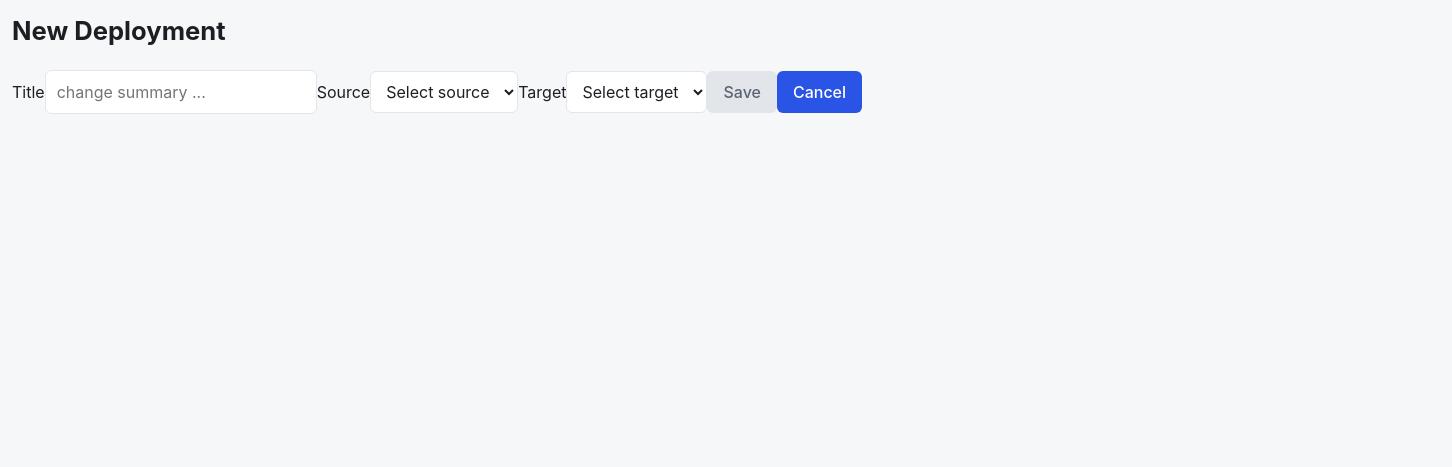
Scenario: NewDeployment page › creates a draft deployment with the optional title on Save and moves to the component picker
Type "Sprint 12 release" into the field labelled "Title" at (181, 92), box [45, 70, 317, 114]
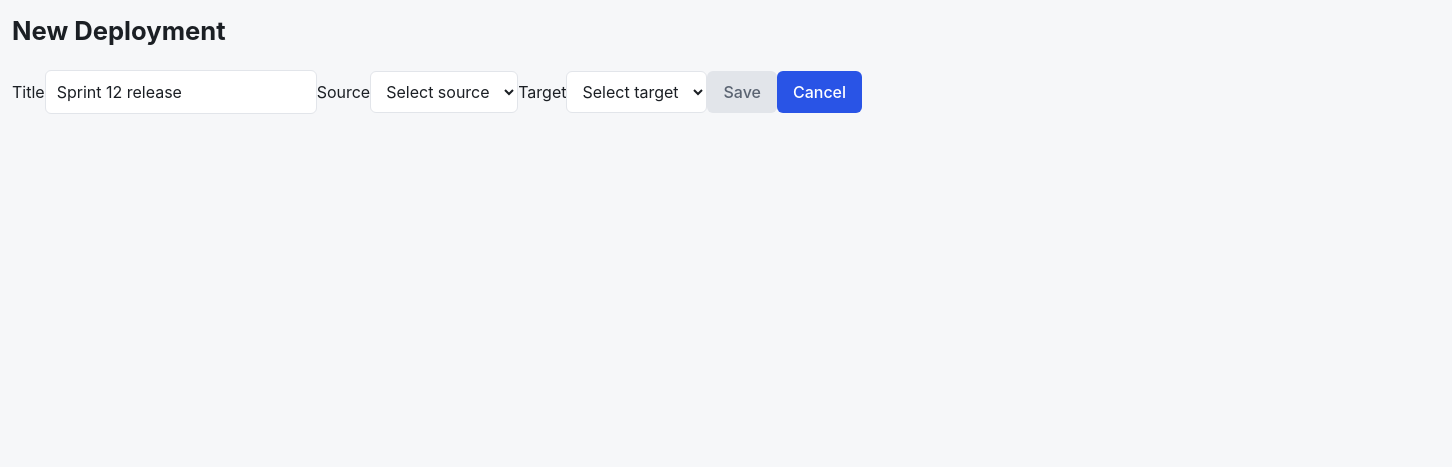
Select "Dev" in the dropdown labelled "Source" at (444, 92), box [370, 71, 518, 113]
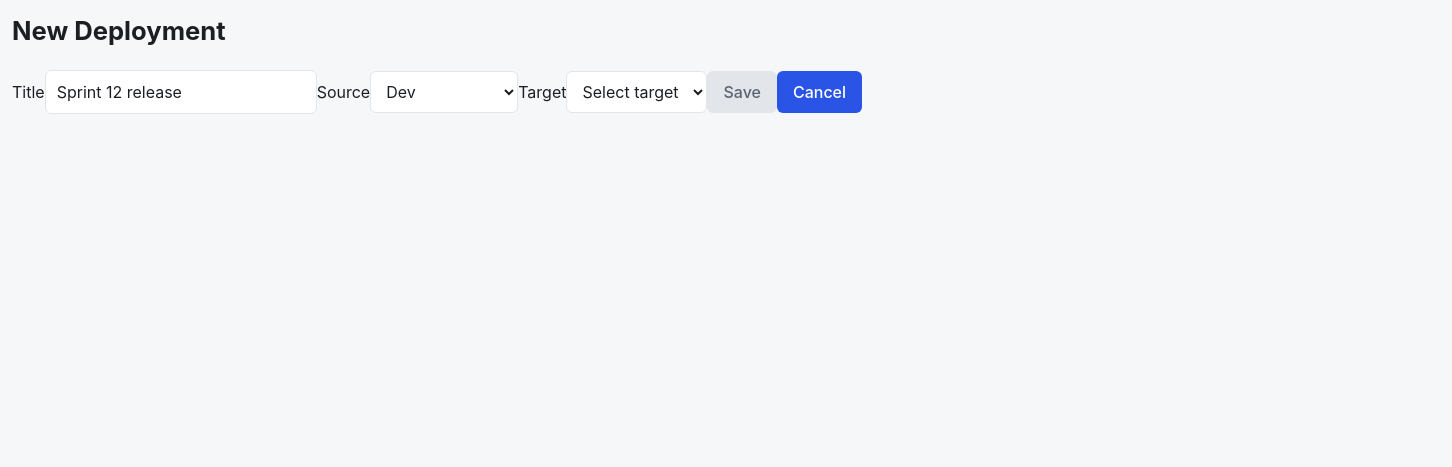
Select "QA" in the dropdown labelled "Target" at (637, 92), box [566, 71, 708, 113]
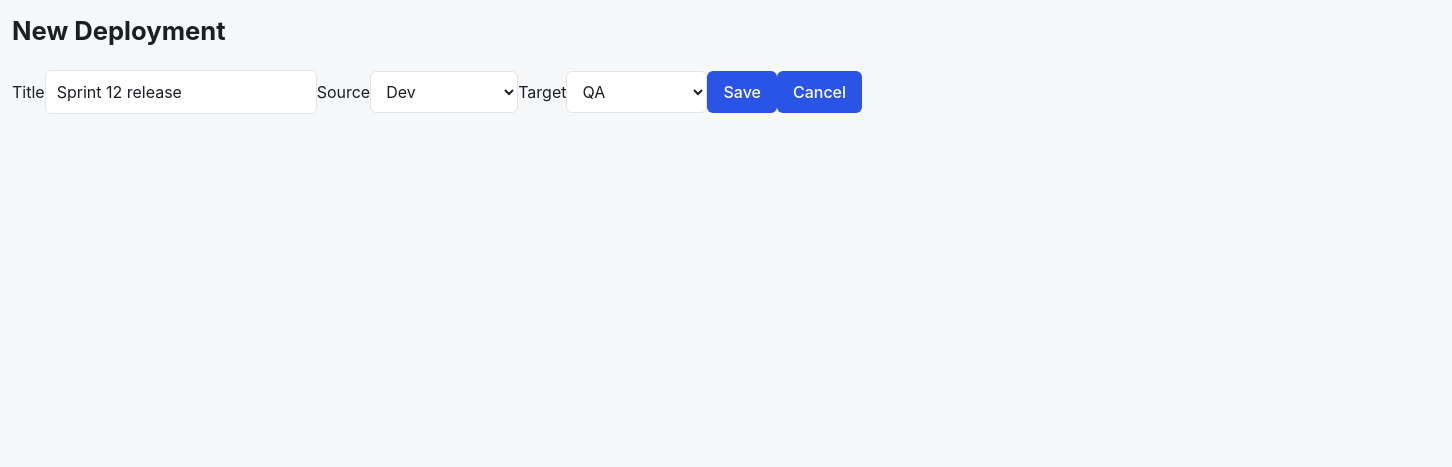
Click the button "Save" at (742, 92), box [708, 71, 777, 113]
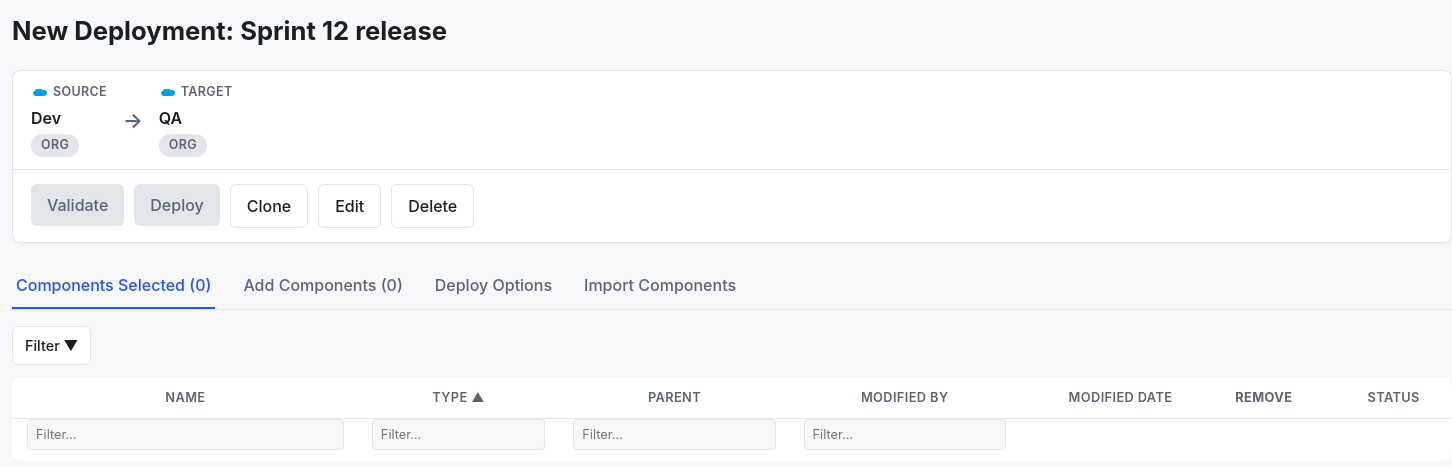
Result: the tab "Components Selected (0)" is shown at [12, 263, 215, 309]
Result: the label labelled "Title" is gone
